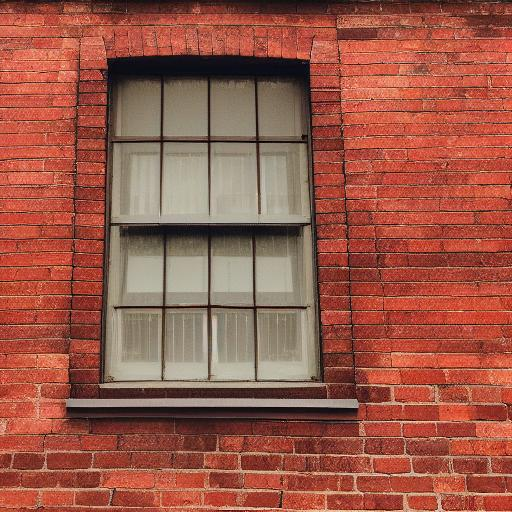Window: (65, 27, 362, 422)
